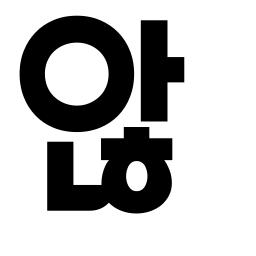Gaji: (135, 47, 181, 94)
